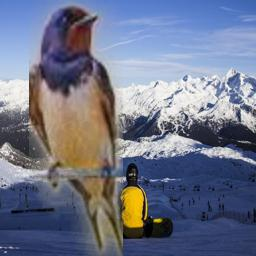Swallow: (29, 0, 123, 256)
